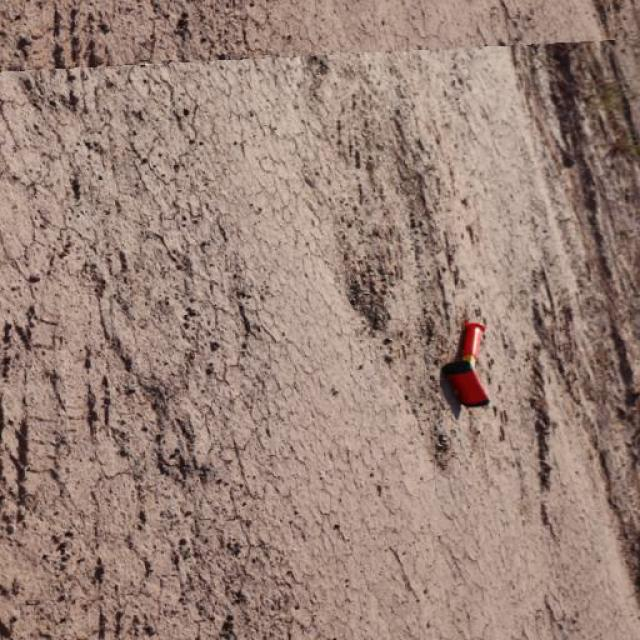mallet: (440, 320, 490, 408)
